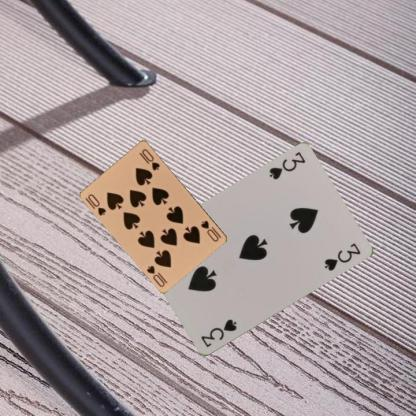10s: (198, 218, 223, 243), (86, 191, 108, 217)
3s: (198, 316, 238, 350), (266, 148, 307, 181)
